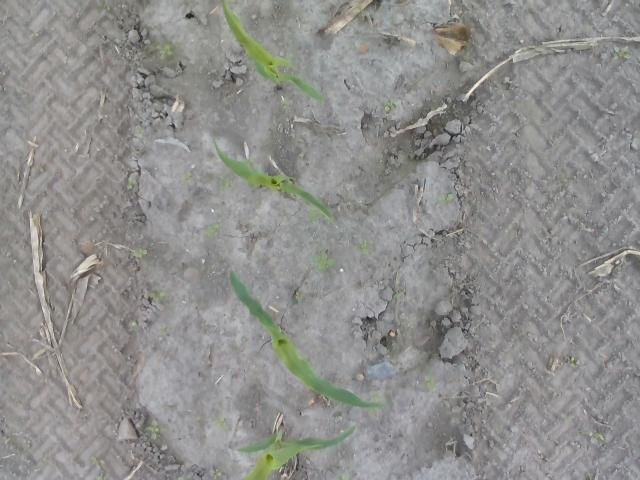Maize: (230, 268, 388, 410), (211, 136, 336, 226), (220, 1, 324, 105), (234, 423, 358, 479)
Weeds: (313, 252, 337, 271), (366, 392, 386, 414), (582, 427, 604, 446), (146, 420, 166, 440), (612, 46, 632, 63), (156, 44, 174, 60), (202, 222, 220, 238), (420, 375, 436, 392), (356, 240, 373, 254), (149, 288, 165, 302), (217, 417, 230, 430), (132, 249, 148, 258), (208, 470, 222, 480), (218, 178, 232, 188), (442, 194, 456, 203), (570, 358, 582, 368), (386, 101, 398, 111), (294, 291, 304, 301), (183, 171, 193, 180), (128, 180, 137, 190), (281, 99, 290, 108), (162, 329, 169, 335), (132, 322, 136, 330)
